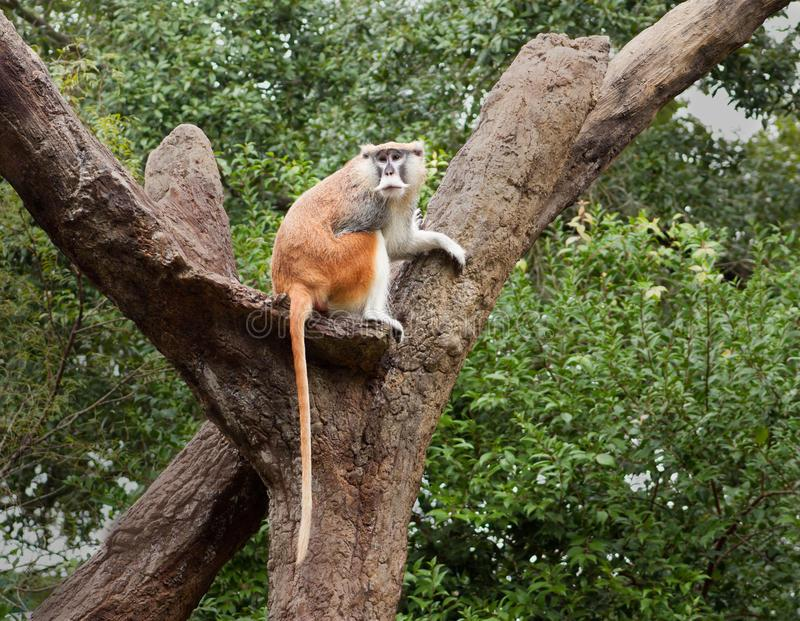monkey: (270, 141, 466, 340)
